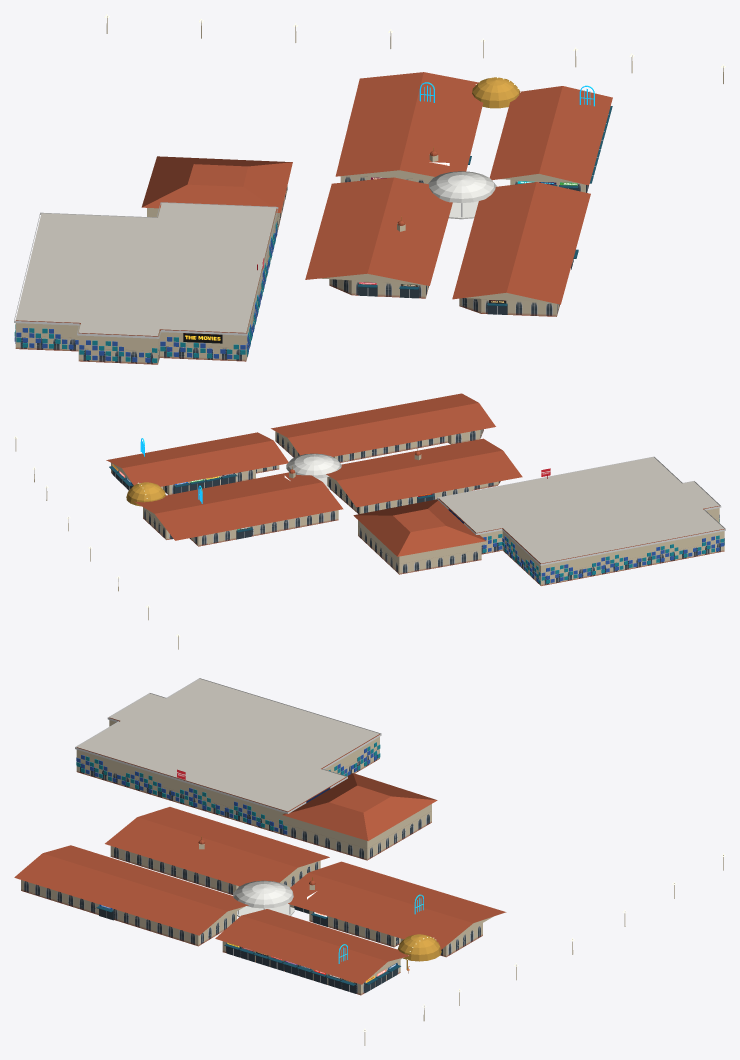
Rendered from renmarket.glb.
The picture shows the model from 3 angles, top to bottom: view 1: azimuth 30°, elevation 25°; view 2: azimuth 150°, elevation 25°; view 3: azimuth 270°, elevation 25°; orthographic projection. The views are drawn at different scales.
Visible parts, largest first — view 1: renmarket_lod0; view 2: renmarket_lod0; view 3: renmarket_lod0.
Part boxes in pixels (x1=…): renmarket_lod0: x1=14, y1=14, x2=725, y2=364; renmarket_lod0: x1=14, y1=393, x2=725, y2=649; renmarket_lod0: x1=14, y1=678, x2=725, y2=1045.
Size of what is drawn, in the model's own units: 236 by 12.11 by 206.
Materials: 22 (4 with a texture image).
